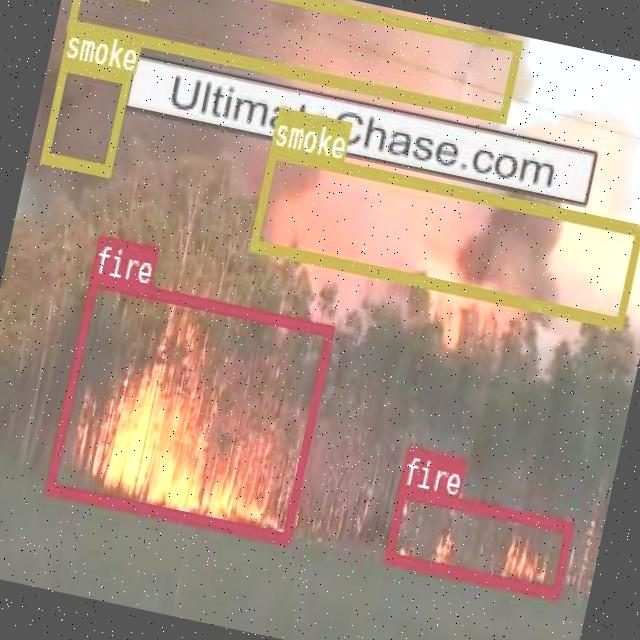fire: (45, 273, 332, 542), (382, 484, 572, 596)
smoke: (248, 144, 640, 326), (66, 0, 521, 121), (40, 58, 130, 174)
